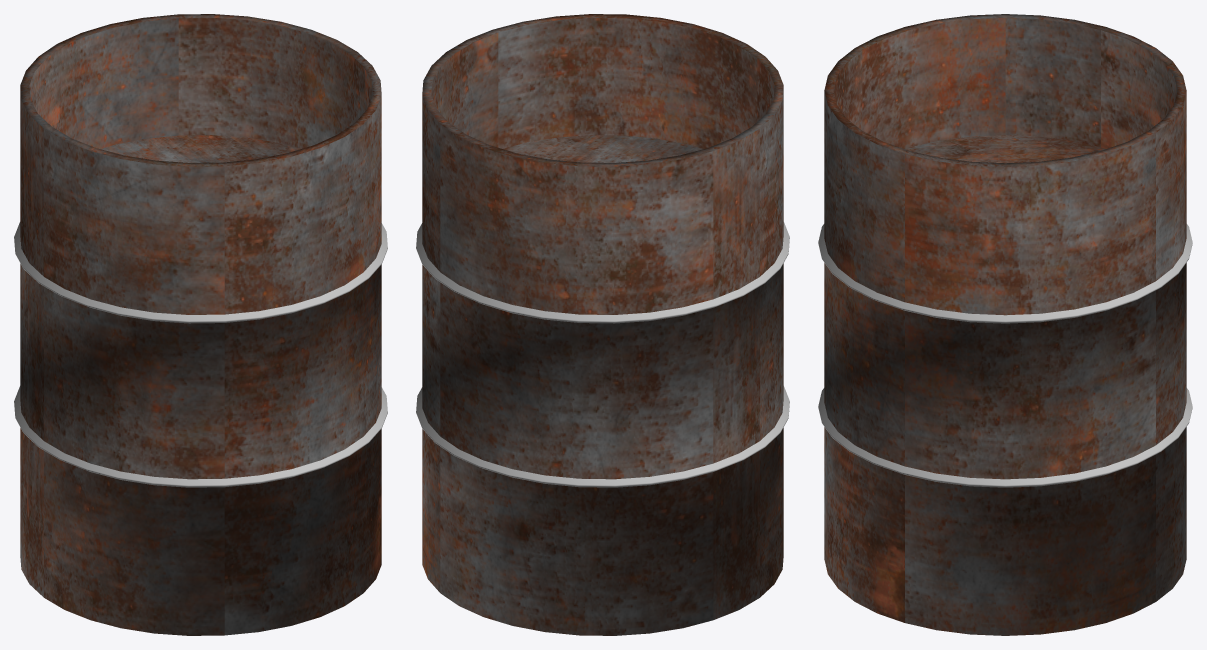
File: rusted barrel.fbx
3 renders of one model, left to right at view 1: azimuth 30°, elevation 25°; view 2: azimuth 150°, elevation 25°; view 3: azimuth 270°, elevation 25°, orthographic.
Parts seen in each view (by area): view 1: Cylinder; view 2: Cylinder; view 3: Cylinder.
Part boxes in pixels (box(x1,y1,x2,y2)): Cylinder: box(14, 14, 387, 635); Cylinder: box(416, 14, 789, 635); Cylinder: box(818, 14, 1192, 635).
Bounding box in the file's own units: 145 × 145 × 200.
